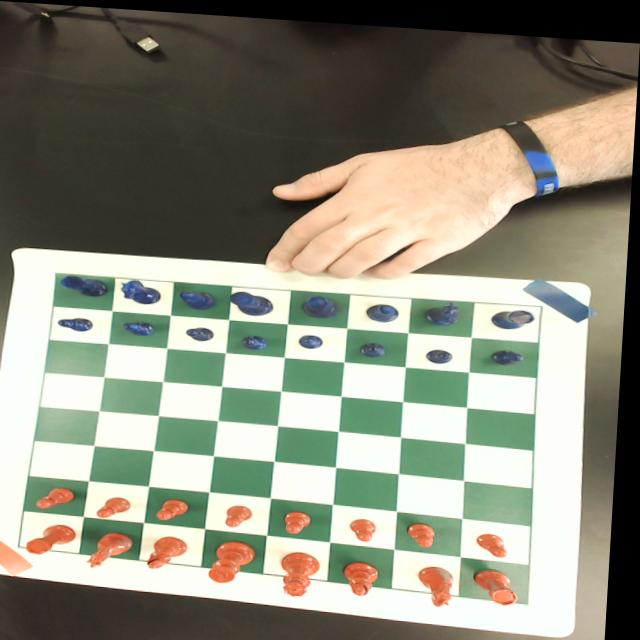B: (182, 287, 221, 307), (368, 297, 403, 317)
K: (232, 286, 278, 313)
N: (121, 276, 165, 303), (428, 291, 466, 321)
P: (59, 313, 98, 330), (124, 317, 159, 335), (495, 341, 530, 359), (426, 341, 457, 357), (300, 328, 329, 345), (188, 323, 219, 338), (363, 337, 394, 352), (245, 330, 271, 346)
Q: (304, 290, 343, 314)
R: (64, 273, 112, 295), (494, 300, 539, 322)
b: (152, 531, 195, 568), (348, 555, 390, 591)
k: (214, 535, 264, 580)
n: (91, 527, 141, 569), (423, 558, 461, 599)
p: (42, 484, 83, 509), (481, 524, 516, 549), (102, 493, 137, 517), (411, 515, 443, 540), (162, 494, 195, 518), (290, 506, 319, 529), (354, 512, 383, 535), (231, 500, 258, 523)
q: (286, 546, 328, 592)
r: (478, 559, 527, 598), (31, 520, 84, 555)
